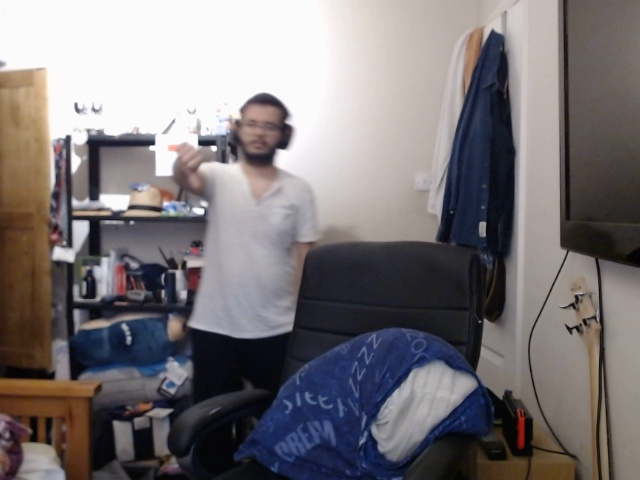Thumbs down: (171, 137, 211, 201)
